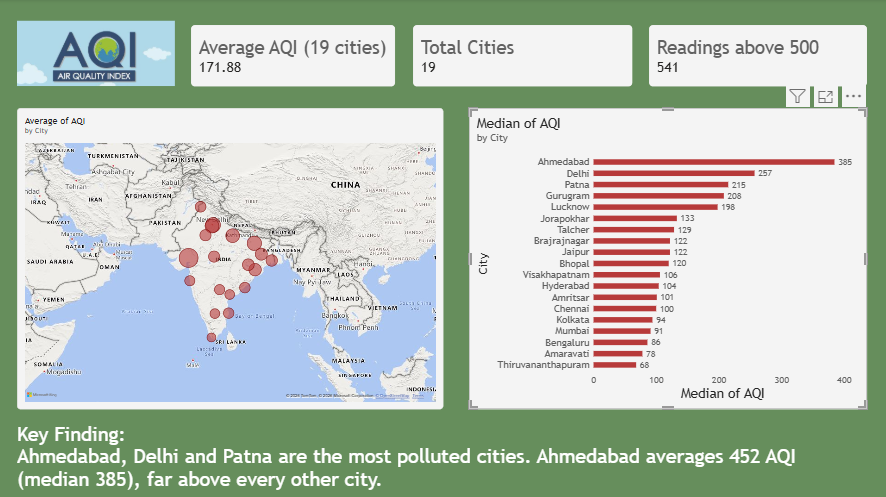

What the dashboard file says about the page in this screenshot:
{"tool":"powerbi","page":{"name":"Overview","canvas":[1920,1080],"ordinal":0},"visuals":[{"type":"cardVisual","title":"Average AQI","fields":{"Data":["Avg(city_day.AQI)"]},"box":[416.3,55.5,423.9,133.7],"z":0},{"type":"cardVisual","title":"Average AQI","fields":{"Data":["Count(city_day.City)"]},"box":[878,55.5,474.3,133.7],"z":1},{"type":"cardVisual","title":"Readings above 50","fields":{"Data":["CountNonNull(city_day.AQI)"]},"box":[1405.3,55.5,471.8,133.7],"z":2},{"type":"map","fields":{"Category":["city_day.City"],"Size":["Avg(city_day.AQI)"]},"box":[40.4,234.6,920.9,650.9],"z":3},{"type":"clusteredBarChart","fields":{"Category":["city_day.City"],"Y":["Median(city_day.AQI)"]},"box":[1016.8,234.6,860.3,650.9],"z":4},{"type":"textbox","box":[40.4,913.3,1836.7,166.5],"z":5},{"type":"image","box":[40.4,0,340.6,234.6],"z":6}]}

Visuals, with their boxes in screenshot pixels (x1, y1, x2, y2), scaled from the page's 1920x1080 canvas onto the 886x497 screenshot:
"Average AQI" cardVisual: detection(192, 26, 388, 87)
"Average AQI" cardVisual: detection(405, 26, 624, 87)
"Readings above 50" cardVisual: detection(648, 26, 866, 87)
map - city_day.City x Avg(city_day.AQI): detection(19, 108, 444, 407)
clusteredBarChart - city_day.City x Median(city_day.AQI): detection(469, 108, 866, 407)
textbox: detection(19, 420, 866, 496)
image: detection(19, 0, 176, 108)
